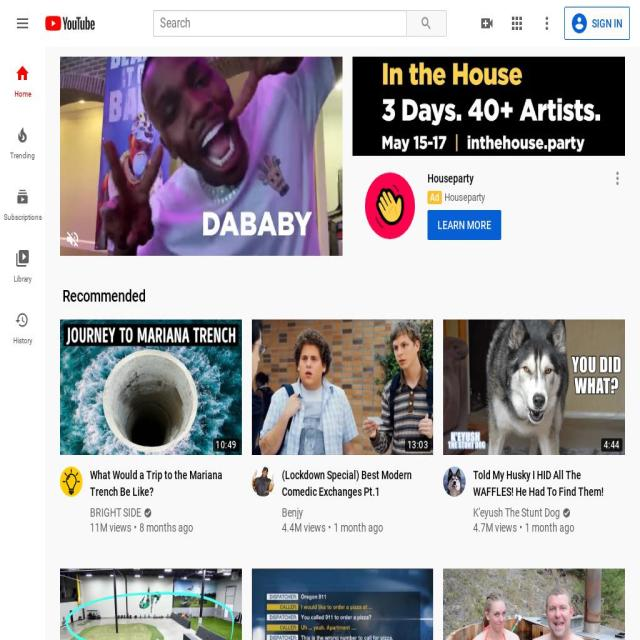button: (251, 319, 434, 456), (60, 319, 242, 456), (443, 319, 625, 456), (251, 568, 434, 640), (60, 568, 242, 640), (443, 568, 625, 640), (281, 467, 419, 501), (90, 467, 227, 501), (473, 467, 610, 501), (365, 173, 415, 239), (0, 50, 45, 112), (0, 173, 45, 235), (0, 235, 45, 297), (0, 112, 45, 173), (0, 297, 45, 358), (427, 210, 502, 240), (564, 7, 630, 40), (473, 505, 561, 521), (406, 10, 446, 37), (45, 14, 95, 34), (90, 505, 142, 521), (443, 467, 466, 498), (60, 467, 82, 498), (252, 467, 274, 498), (444, 190, 486, 205), (282, 505, 304, 521), (15, 14, 30, 34), (479, 14, 494, 34), (509, 14, 524, 34), (539, 14, 554, 34), (65, 229, 80, 249), (610, 168, 625, 188)
field: (160, 13, 405, 34)
heading: (281, 467, 419, 501), (90, 467, 227, 501), (473, 467, 610, 501)
iframe: (60, 56, 342, 256)
image: (251, 319, 434, 456), (60, 319, 242, 456), (443, 319, 625, 456), (251, 568, 434, 640), (60, 568, 242, 640), (443, 568, 625, 640), (365, 173, 415, 239), (45, 14, 95, 34), (443, 467, 466, 498), (60, 467, 82, 498), (252, 467, 274, 498), (571, 14, 587, 34), (15, 14, 30, 34), (479, 14, 494, 34), (509, 14, 524, 34), (539, 14, 554, 34), (15, 64, 30, 84), (15, 125, 30, 145), (15, 186, 30, 206), (15, 248, 30, 268), (15, 310, 30, 330), (65, 229, 80, 249), (610, 168, 625, 188), (420, 15, 433, 32), (562, 507, 572, 518), (144, 507, 152, 518)
link: (437, 218, 492, 232), (592, 17, 622, 30)
text: (62, 286, 146, 306), (139, 520, 193, 536), (281, 520, 334, 536), (473, 520, 526, 536), (333, 520, 383, 536), (525, 520, 575, 536), (90, 520, 139, 536), (428, 172, 473, 185), (3, 212, 42, 223), (10, 150, 35, 162), (407, 440, 429, 451), (12, 335, 32, 347), (216, 440, 237, 451), (13, 273, 32, 285), (14, 88, 31, 100), (603, 440, 620, 451), (430, 192, 439, 203)
